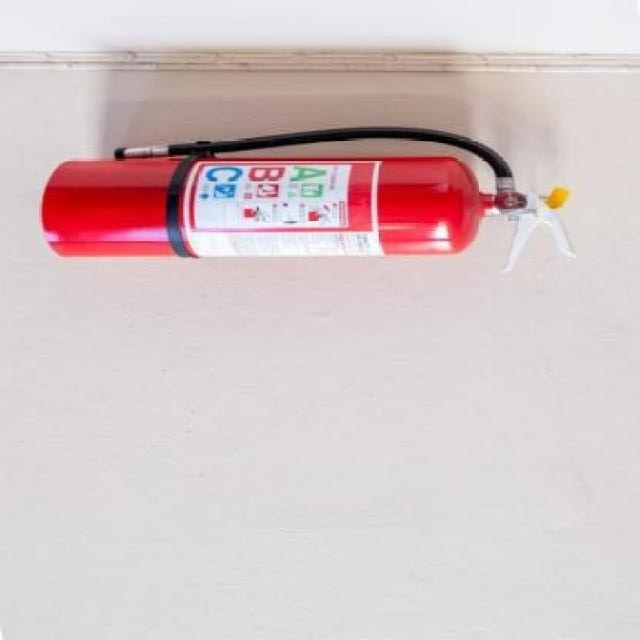fire extinguisher: (40, 125, 577, 275)
